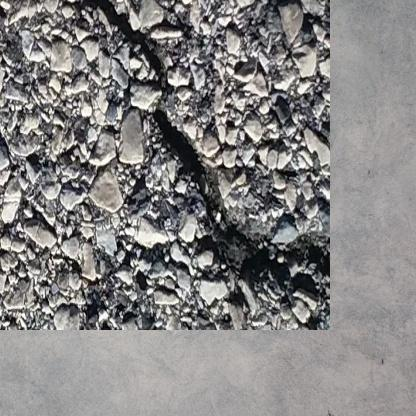Cracks: (64, 0, 305, 281)
